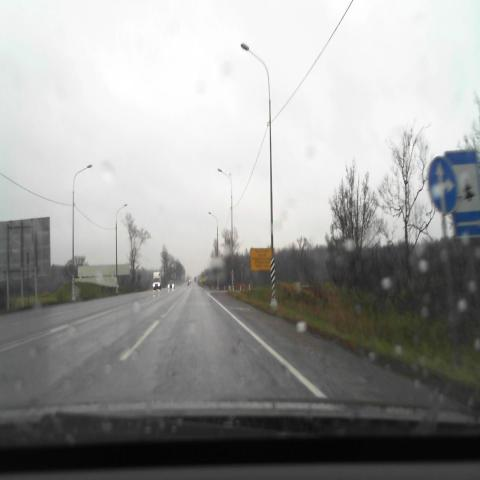4_1_4: (428, 157, 458, 213)
7_11: (446, 152, 480, 237)
